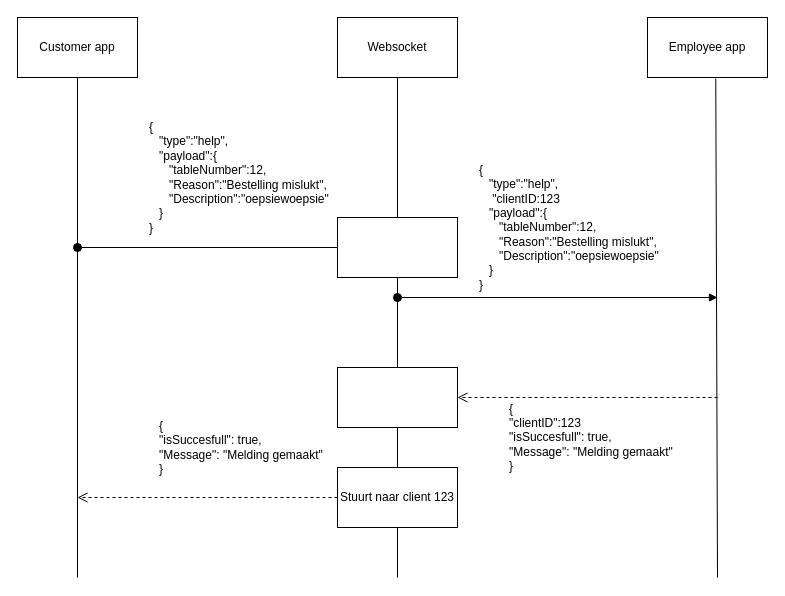
The diagram is 785 pixels wide and 596 high, and some of its shapes have lost their labels. The shapes that lost their labels are listed below. From the top down, each one's box as (x1, y1, x2, y2) in pixels, then its label:
(336, 216, 458, 278): Slaat Client + ID op.
(336, 366, 458, 428): Zoekt Op client ID 123
